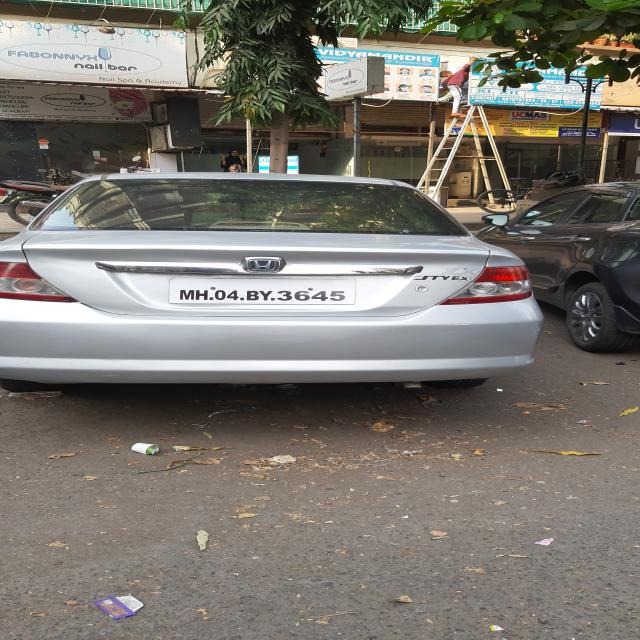Number-Plate: (175, 277, 354, 305)
